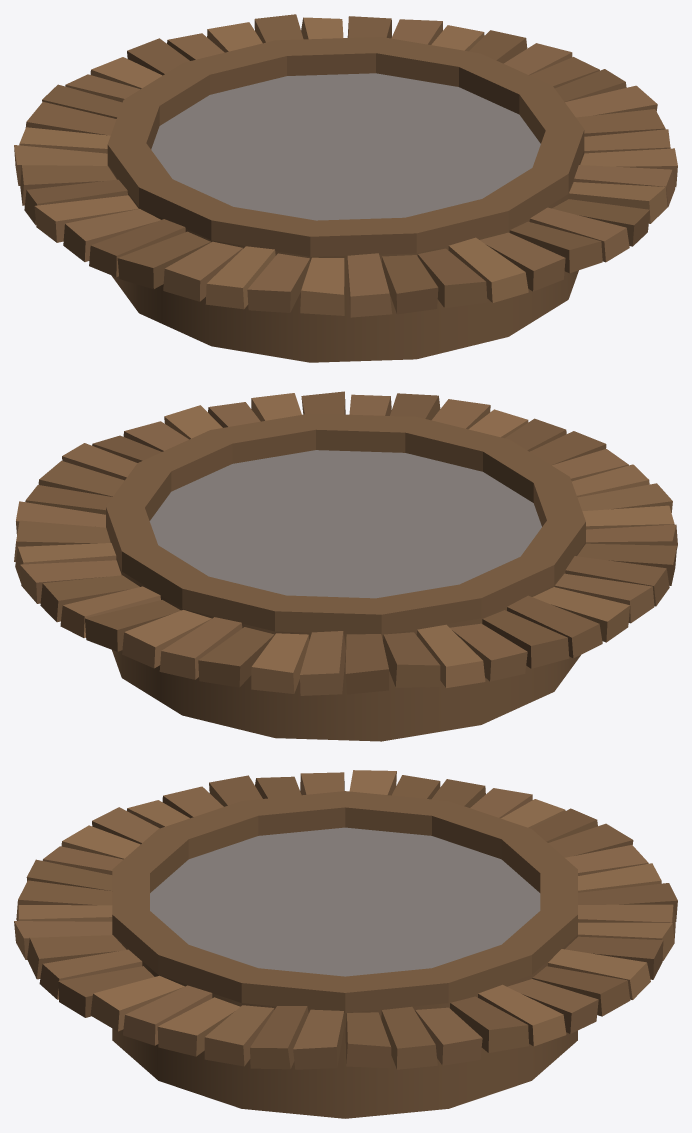
The model's file is Town_Bench_1.fbx.
3 views of the same model, one above another, from view 1: azimuth 30°, elevation 25°; view 2: azimuth 150°, elevation 25°; view 3: azimuth 270°, elevation 25° (orthographic).
Visible parts, largest first — view 1: Town_Bench_1; view 2: Town_Bench_1; view 3: Town_Bench_1.
Part boxes in pixels (bbox=[...]): Town_Bench_1: bbox=[14, 14, 677, 362]; Town_Bench_1: bbox=[14, 391, 677, 741]; Town_Bench_1: bbox=[14, 770, 677, 1118].
Size of the model in its own units: 311 by 65.42 by 313.
1 material, 1 textured.
